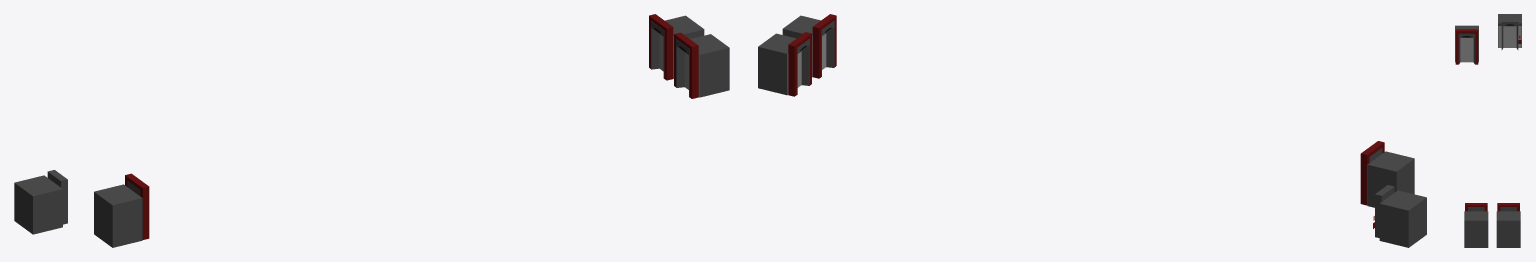
File: 1F_Elevator.fbx
3 views of the same model, side by side, from view 1: azimuth 30°, elevation 25°; view 2: azimuth 150°, elevation 25°; view 3: azimuth 270°, elevation 25° (orthographic). The views are drawn at different scales.
Visible parts, largest first — view 1: Elevator_Box_A, Elevator_Box_A02, Elevator_Box_B01, Elevator_Box_A01; view 2: Elevator_Box_A01, Elevator_Box_B01, Elevator_Box_A, Elevator_Box_A02; view 3: Elevator_Box_A01, Elevator_Box_A02, Elevator_Box_A, Elevator_Box_B01, Elevator_Box_B_Door_L, Elevator_Box_B_Door_R, Elevator_Box_A_Door_L, Elevator_Box_A_Door_R.
Boxes of the visible parts, x1=… form: Elevator_Box_A: x1=94, y1=173, x2=149, y2=247; Elevator_Box_A02: x1=674, y1=32, x2=729, y2=98; Elevator_Box_B01: x1=14, y1=170, x2=67, y2=234; Elevator_Box_A01: x1=649, y1=14, x2=704, y2=80; Elevator_Box_A01: x1=758, y1=32, x2=811, y2=96; Elevator_Box_B01: x1=1373, y1=185, x2=1426, y2=247; Elevator_Box_A: x1=1360, y1=141, x2=1414, y2=207; Elevator_Box_A02: x1=782, y1=14, x2=836, y2=78; Elevator_Box_A01: x1=1496, y1=203, x2=1520, y2=247; Elevator_Box_A02: x1=1464, y1=203, x2=1488, y2=247; Elevator_Box_A: x1=1455, y1=25, x2=1478, y2=64; Elevator_Box_B01: x1=1498, y1=14, x2=1521, y2=49; Elevator_Box_B_Door_L: x1=1498, y1=26, x2=1509, y2=47; Elevator_Box_B_Door_R: x1=1510, y1=26, x2=1521, y2=47; Elevator_Box_A_Door_L: x1=1455, y1=35, x2=1466, y2=62; Elevator_Box_A_Door_R: x1=1467, y1=35, x2=1478, y2=62.
Bounding box in the file's own units: 43.25 × 3.2 × 5.84.
